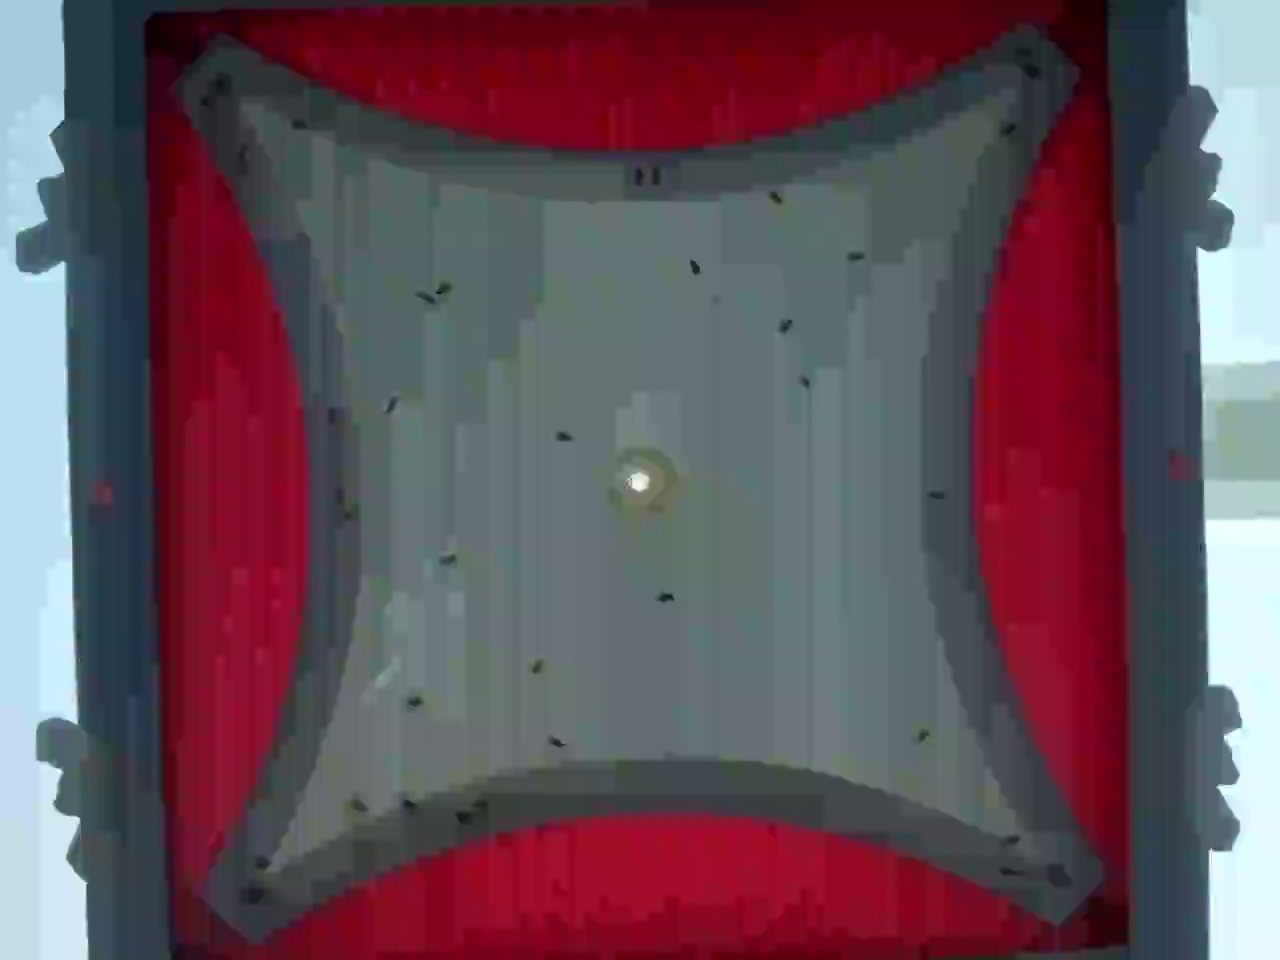fly: (762, 183, 787, 208), (842, 244, 867, 269), (773, 312, 798, 337), (792, 368, 817, 393), (379, 391, 404, 416), (996, 113, 1021, 138), (550, 423, 575, 448), (923, 482, 948, 507), (326, 485, 351, 510), (652, 584, 677, 609), (909, 722, 934, 747), (343, 792, 368, 817), (542, 729, 567, 754), (399, 689, 424, 714), (1001, 826, 1026, 851), (464, 789, 489, 814), (995, 859, 1020, 884), (625, 160, 650, 185), (644, 159, 669, 184), (414, 285, 439, 310), (431, 275, 456, 301), (681, 254, 706, 279), (435, 547, 460, 572), (524, 654, 549, 679)
